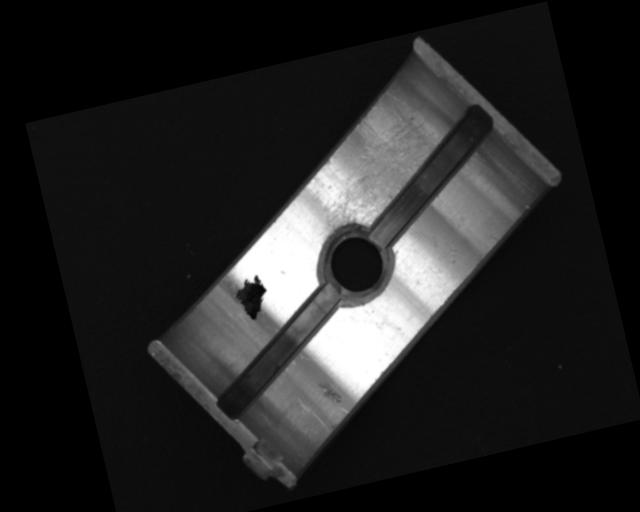blot: (231, 272, 274, 325)
bruise: (315, 376, 344, 408)
gap: (346, 104, 515, 251), (197, 284, 358, 423)
hole: (309, 217, 403, 311)
scratch: (296, 78, 455, 241)
